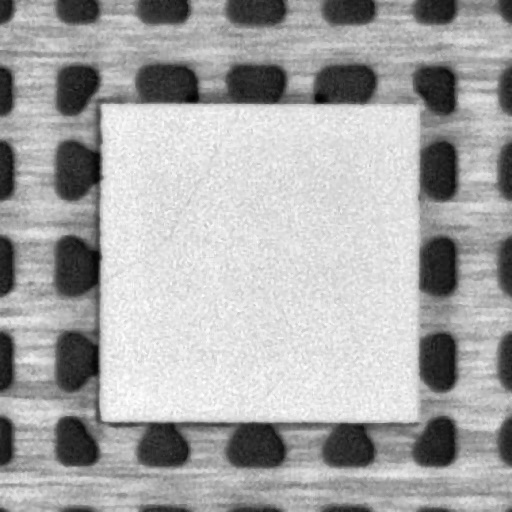DIE_CRACK: (103, 105, 241, 280)
